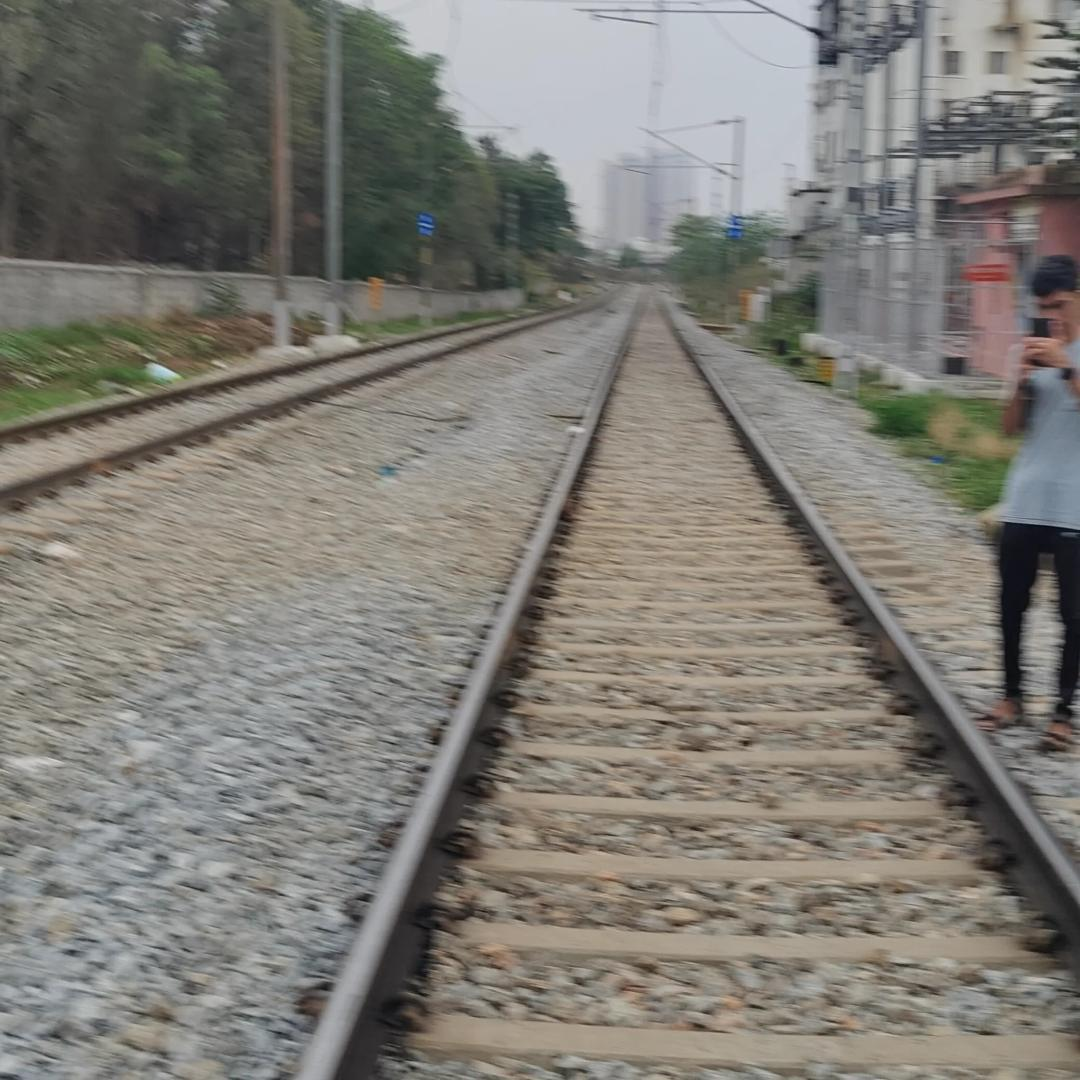standing: (968, 238, 1080, 767)
track: (175, 277, 1080, 1080)
